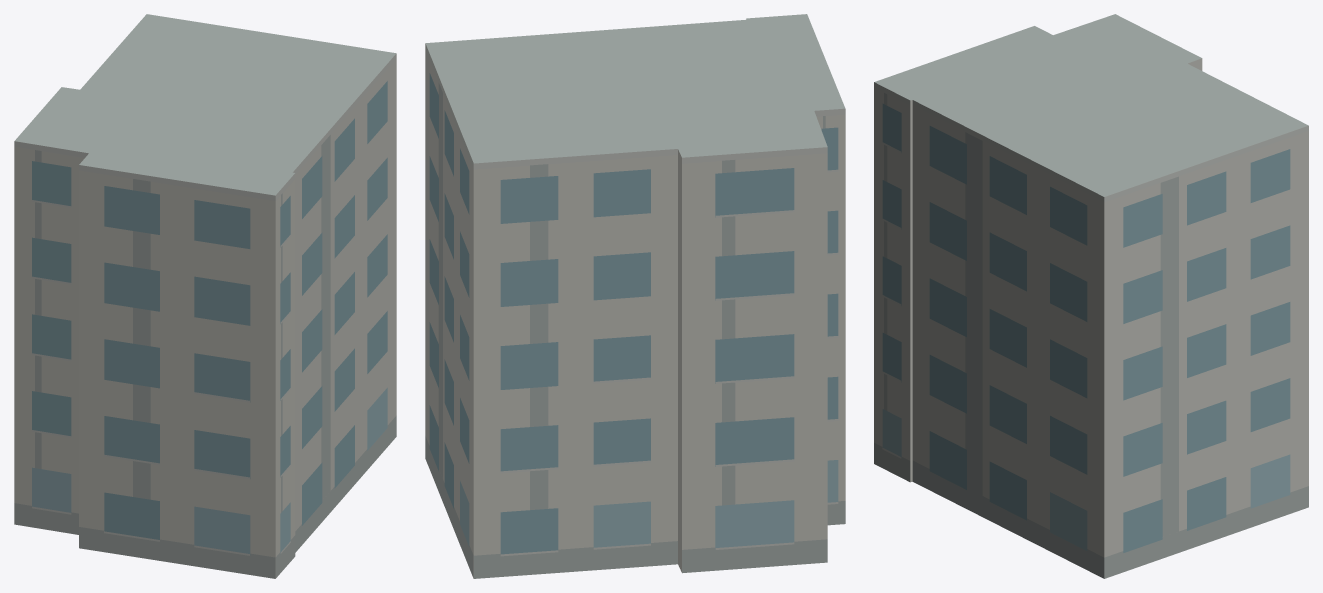
The model's file is survey-upis-32840653.glb.
3 renders of one model, left to right at view 1: azimuth 30°, elevation 25°; view 2: azimuth 150°, elevation 25°; view 3: azimuth 270°, elevation 25°, orthographic. The views are drawn at different scales.
Parts seen in each view (by area): view 1: survey-upis-32840653.tmp; view 2: survey-upis-32840653.tmp; view 3: survey-upis-32840653.tmp.
Part boxes in pixels (<box>): survey-upis-32840653.tmp: <box>14,14,396,578</box>; survey-upis-32840653.tmp: <box>425,14,845,578</box>; survey-upis-32840653.tmp: <box>874,14,1308,578</box>.
Size of the model in its own units: 17.56 by 17.06 by 17.61.
